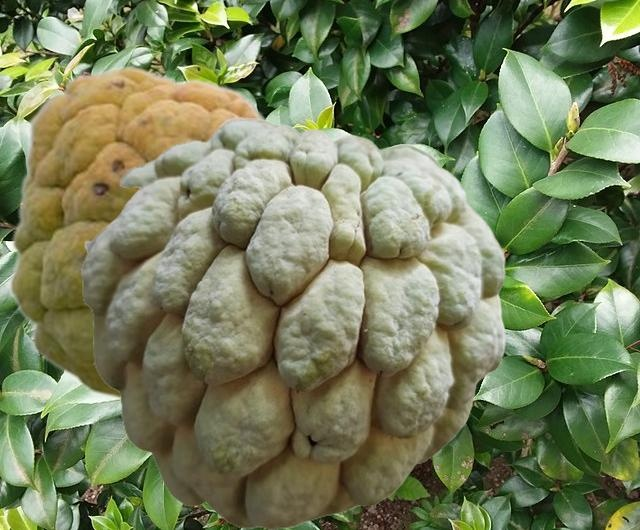atis: (80, 117, 505, 528), (7, 64, 270, 403)
